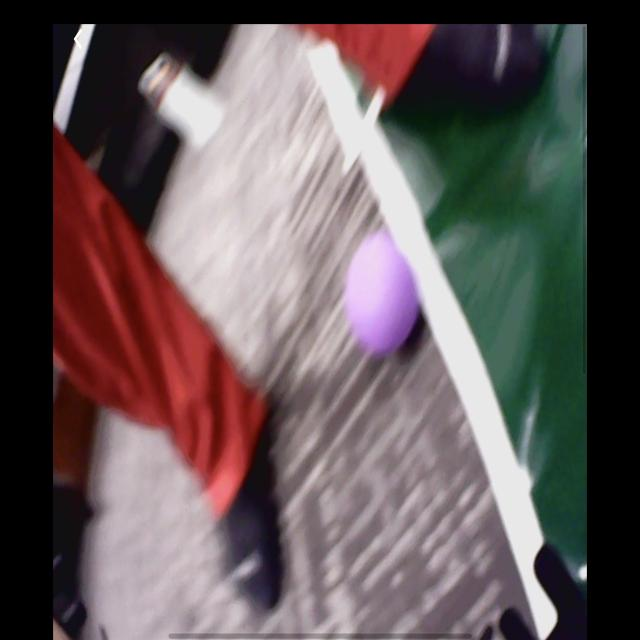ball: (347, 239, 417, 358)
